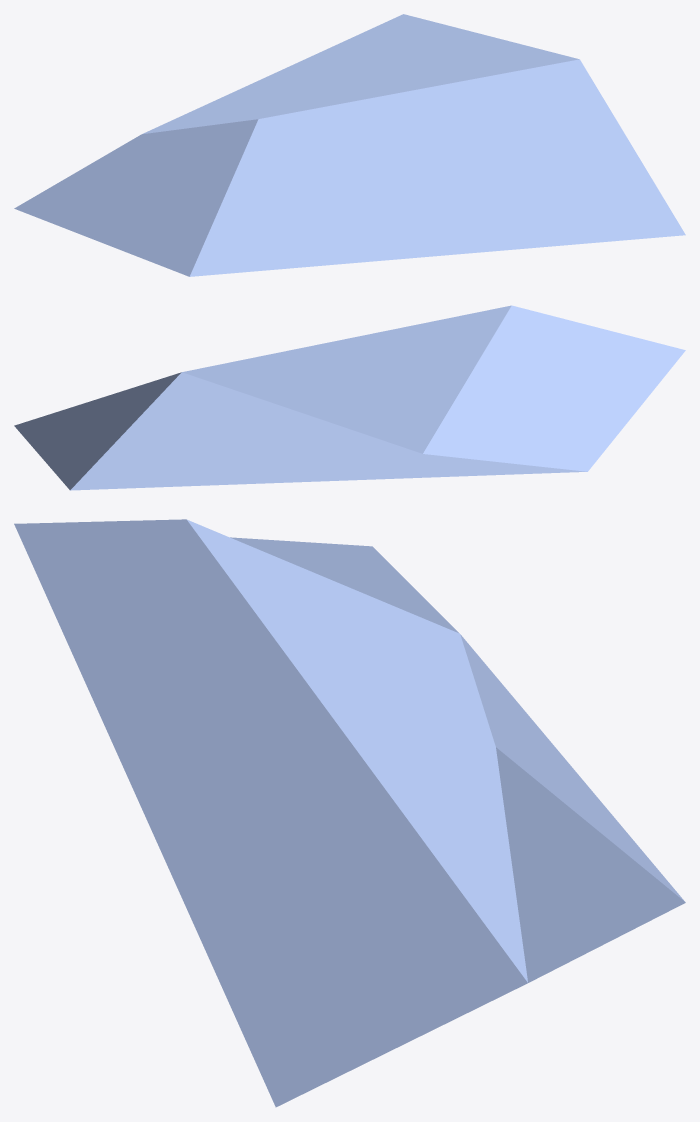
File: Pebble 6.fbx
3 views of the same model, one above another, from view 1: azimuth 30°, elevation 25°; view 2: azimuth 150°, elevation 25°; view 3: azimuth 270°, elevation 25° (orthographic). The views are drawn at different scales.
Parts seen in each view (by area): view 1: Cube.035; view 2: Cube.035; view 3: Cube.035.
Part boxes in pixels (bbox=[...]): Cube.035: bbox=[14, 14, 685, 276]; Cube.035: bbox=[14, 305, 685, 490]; Cube.035: bbox=[14, 519, 685, 1107].
Bounding box in the file's own units: 1.65 × 0.6401 × 1.25.
